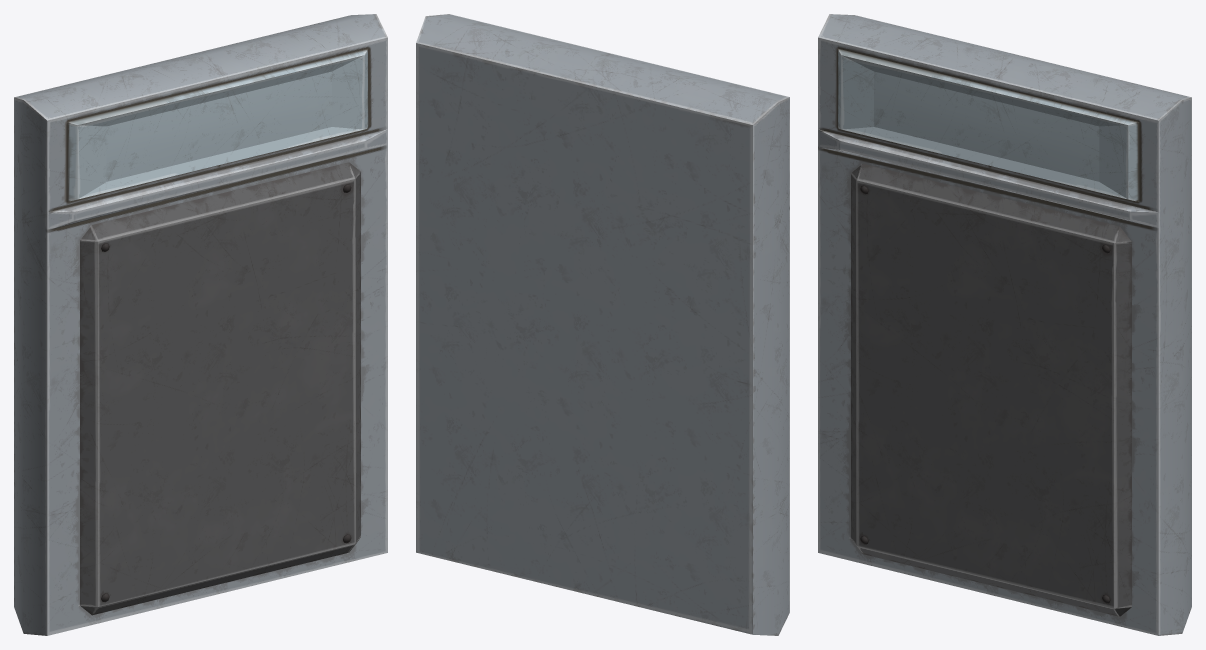
File: Model_keypad.fbx
3 views of the same model, side by side, from view 1: azimuth 30°, elevation 25°; view 2: azimuth 150°, elevation 25°; view 3: azimuth 330°, elevation 25° (orthographic).
Parts seen in each view (by area): view 1: keypad; view 2: keypad; view 3: keypad.
Boxes of the visible parts, x1,y1,x2,y2 form: keypad: (14,14,387,635); keypad: (416,14,789,635); keypad: (818,14,1191,635).
Size of the model in its own units: 62.23 by 89.95 by 12.98.
